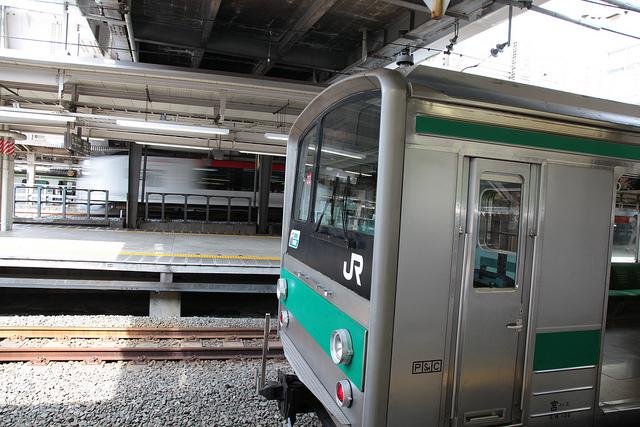Train: (258, 64, 640, 420)
